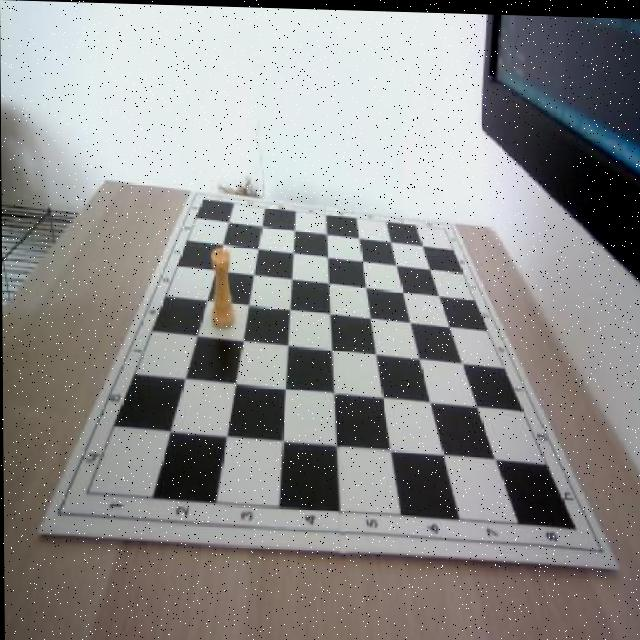white-queen: (211, 248, 237, 331)
